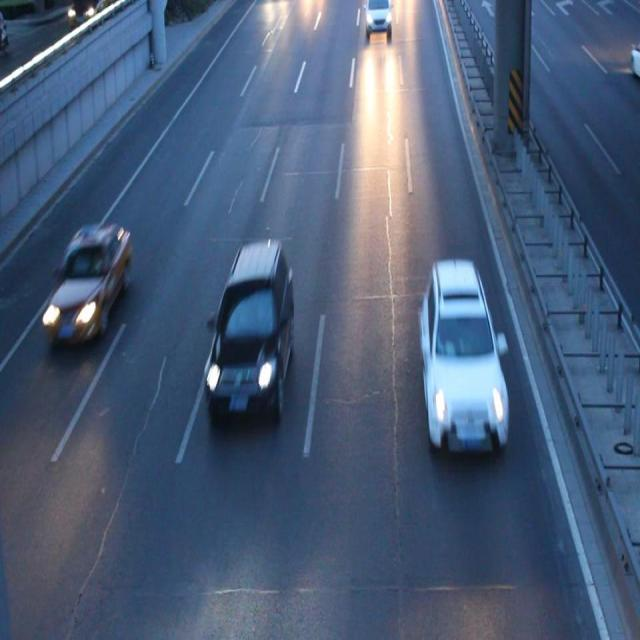car: (419, 262, 509, 455), (203, 241, 293, 420), (38, 221, 130, 341), (365, 1, 391, 39)
